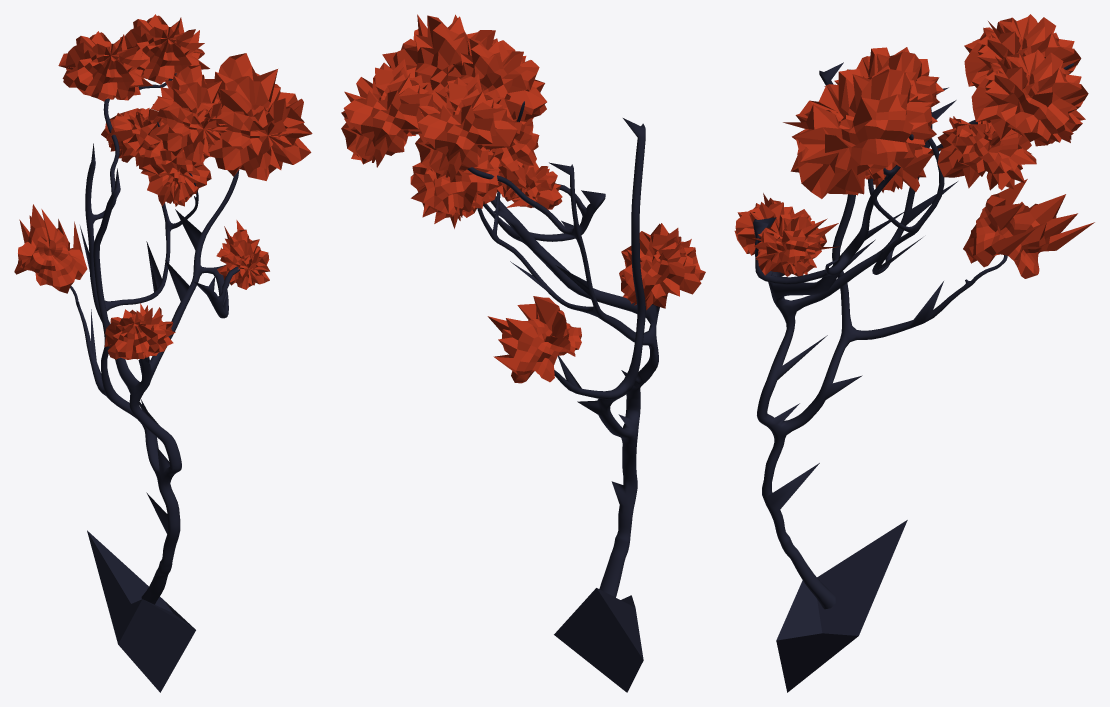
The model's file is tree.gltf.
3 views of the same model, side by side, from view 1: azimuth 30°, elevation 25°; view 2: azimuth 150°, elevation 25°; view 3: azimuth 270°, elevation 25° (orthographic). The views are drawn at different scales.
Parts seen in each view (by area): view 1: Tree_n3d; view 2: Tree_n3d; view 3: Tree_n3d.
Part boxes in pixels (left/top/right/bottom): Tree_n3d: left=14, top=14, right=312, bottom=692; Tree_n3d: left=341, top=14, right=705, bottom=692; Tree_n3d: left=734, top=14, right=1094, bottom=692.
Bounding box in the file's own units: 3.69 × 8.87 × 4.16.
